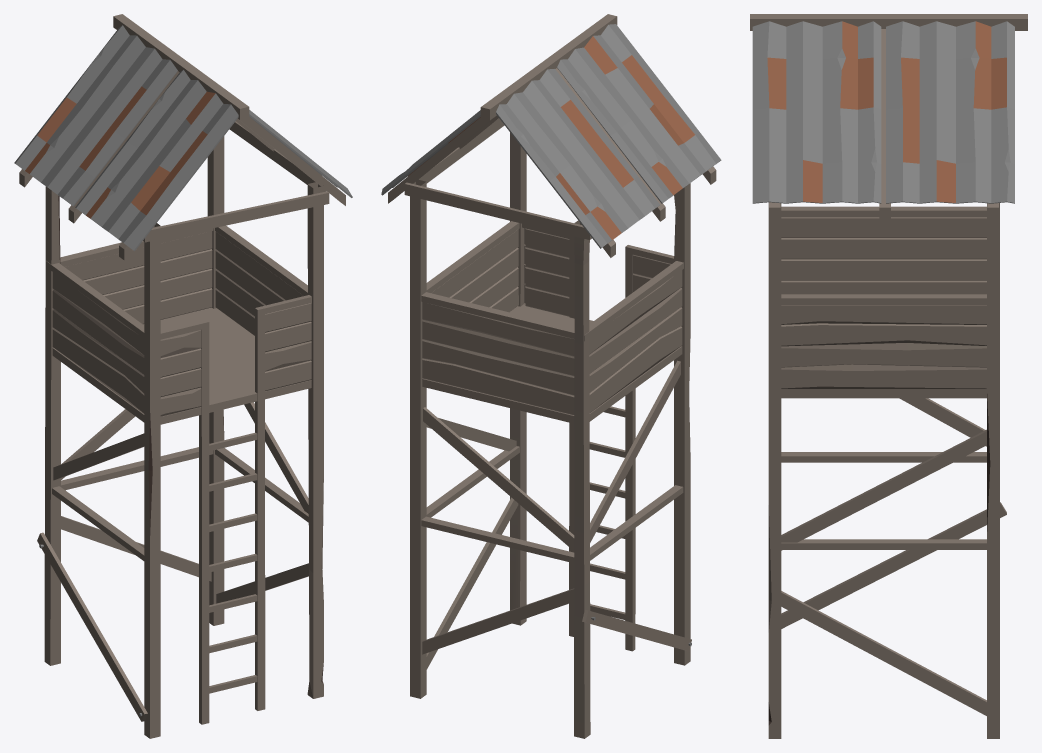
File: model_guard_tower.fbx
3 views of the same model, side by side, from view 1: azimuth 30°, elevation 25°; view 2: azimuth 150°, elevation 25°; view 3: azimuth 270°, elevation 25° (orthographic). The views are drawn at different scales.
Parts seen in each view (by area): view 1: model_guard_tower; view 2: model_guard_tower; view 3: model_guard_tower.
Boxes of the visible parts, bbox=[...] form: model_guard_tower: bbox=[14, 14, 352, 738]; model_guard_tower: bbox=[381, 14, 721, 738]; model_guard_tower: bbox=[750, 14, 1027, 738].
Bounding box in the file's own units: 533 × 1402 × 523.
1 material, 1 textured.
